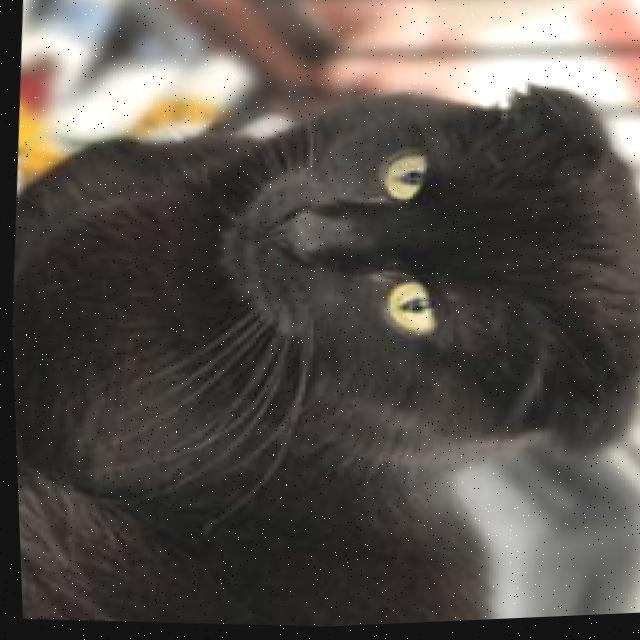Scottish Fold: (2, 46, 640, 640)
